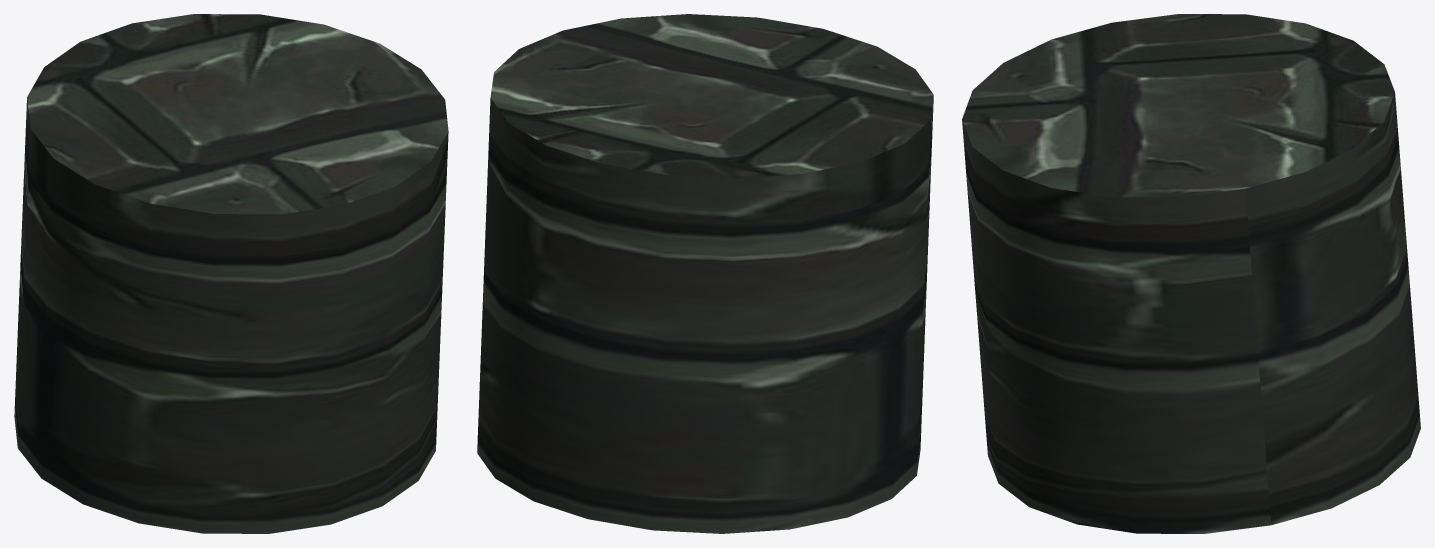
File: Bumper_1.obj
The picture shows the model from 3 angles, left to right: view 1: azimuth 30°, elevation 25°; view 2: azimuth 150°, elevation 25°; view 3: azimuth 270°, elevation 25°; orthographic projection. The views are drawn at different scales.
Visible parts, largest first — view 1: Bumper_1 PinballInternals PinballMachine; view 2: Bumper_1 PinballInternals PinballMachine; view 3: Bumper_1 PinballInternals PinballMachine.
Boxes of the visible parts, <box> form: Bumper_1 PinballInternals PinballMachine: <box>14,14,448,533</box>; Bumper_1 PinballInternals PinballMachine: <box>477,14,933,533</box>; Bumper_1 PinballInternals PinballMachine: <box>962,14,1420,533</box>.
Size of the model in its own units: 22.16 by 20.5 by 23.43.
Materials: 1 (1 with a texture image).
